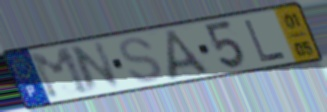5: (202, 18, 248, 71)
A: (165, 27, 214, 83)
L: (242, 18, 290, 63)
M: (26, 45, 94, 102)
N: (68, 39, 123, 96)
S: (116, 35, 164, 84)
